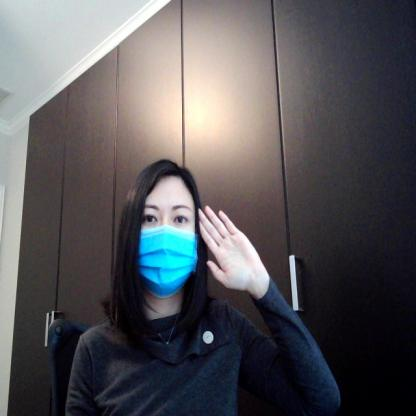hello: (196, 204, 269, 298)
